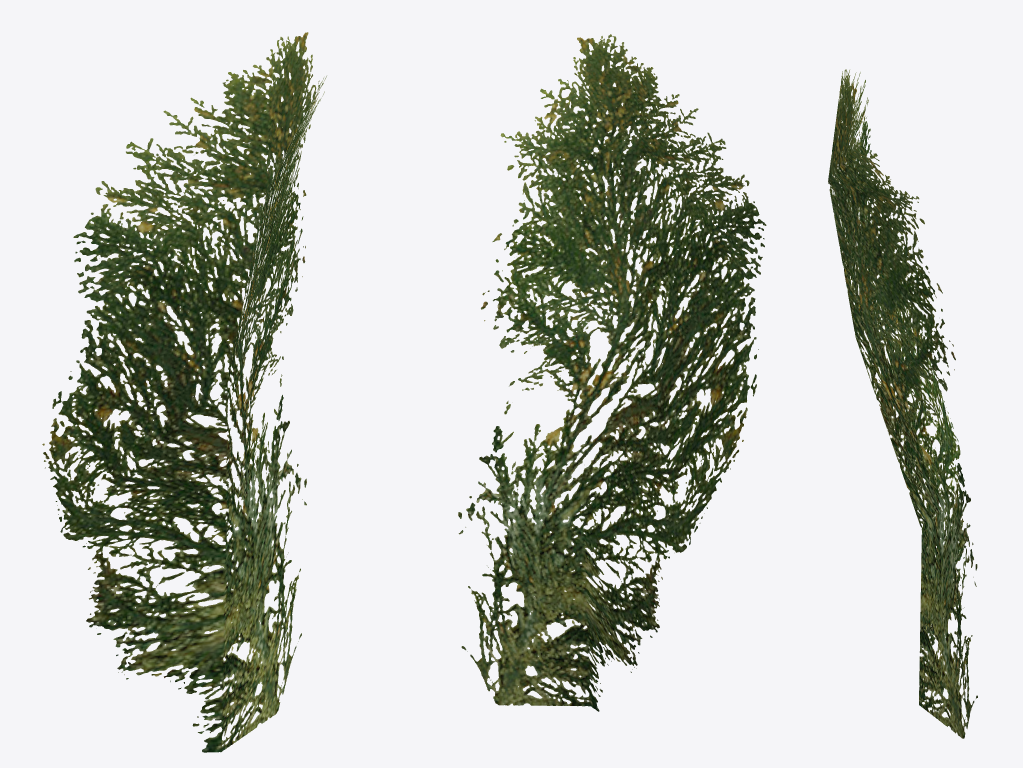
The picture shows the model from 3 angles, left to right: view 1: azimuth 30°, elevation 25°; view 2: azimuth 150°, elevation 25°; view 3: azimuth 270°, elevation 25°; orthographic projection. The views are drawn at different scales.
Visible parts, largest first — view 1: Cystoseira.002; view 2: Cystoseira.002; view 3: Cystoseira.002.
Part boxes in pixels (x1,y1,x2,y2): Cystoseira.002: (42,32,326,752); Cystoseira.002: (458,34,766,711); Cystoseira.002: (828,69,977,738).
Size of the model in its own units: 0.5736 by 1.02 by 0.2524.
Materials: 1 (1 with a texture image).
